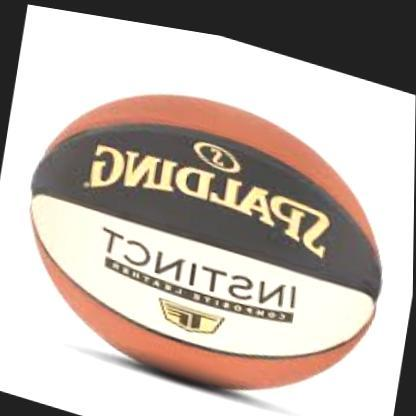basketball: (10, 47, 397, 416)
